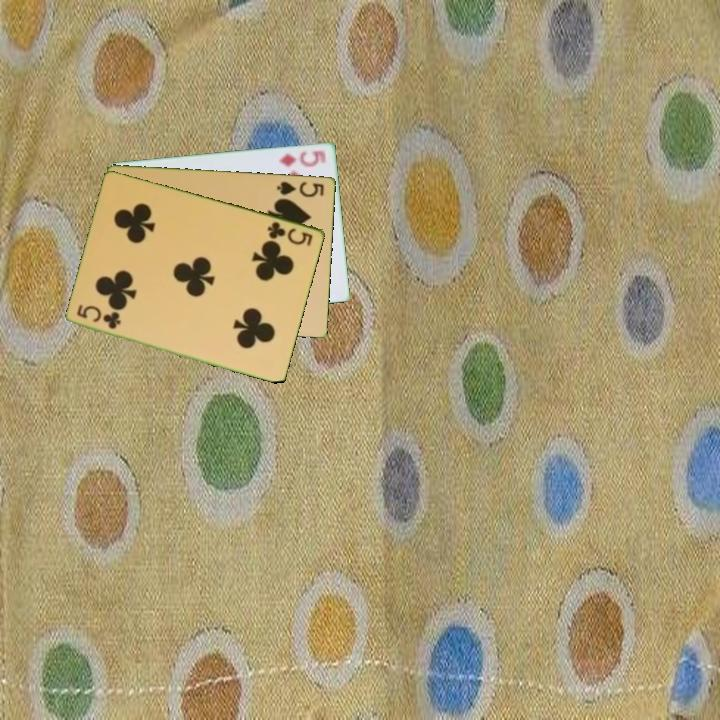5c: (264, 218, 316, 248), (74, 302, 124, 332)
5d: (275, 146, 329, 169)
5s: (274, 178, 327, 200)
